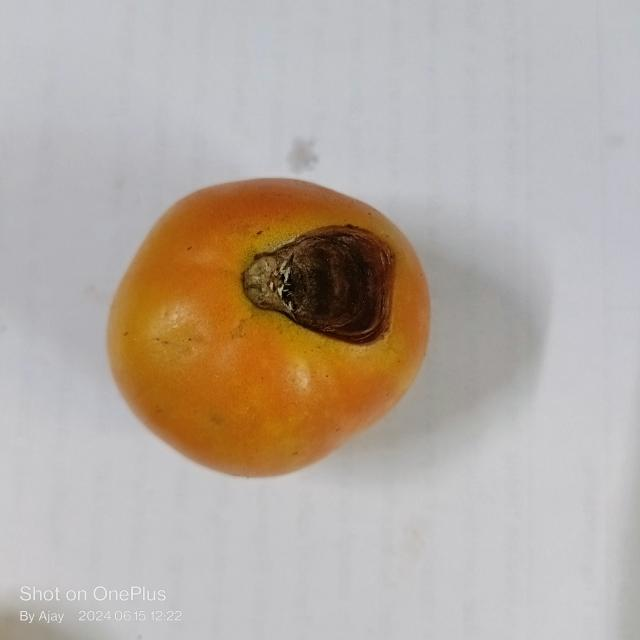Anthrocnose: (242, 224, 393, 343)
